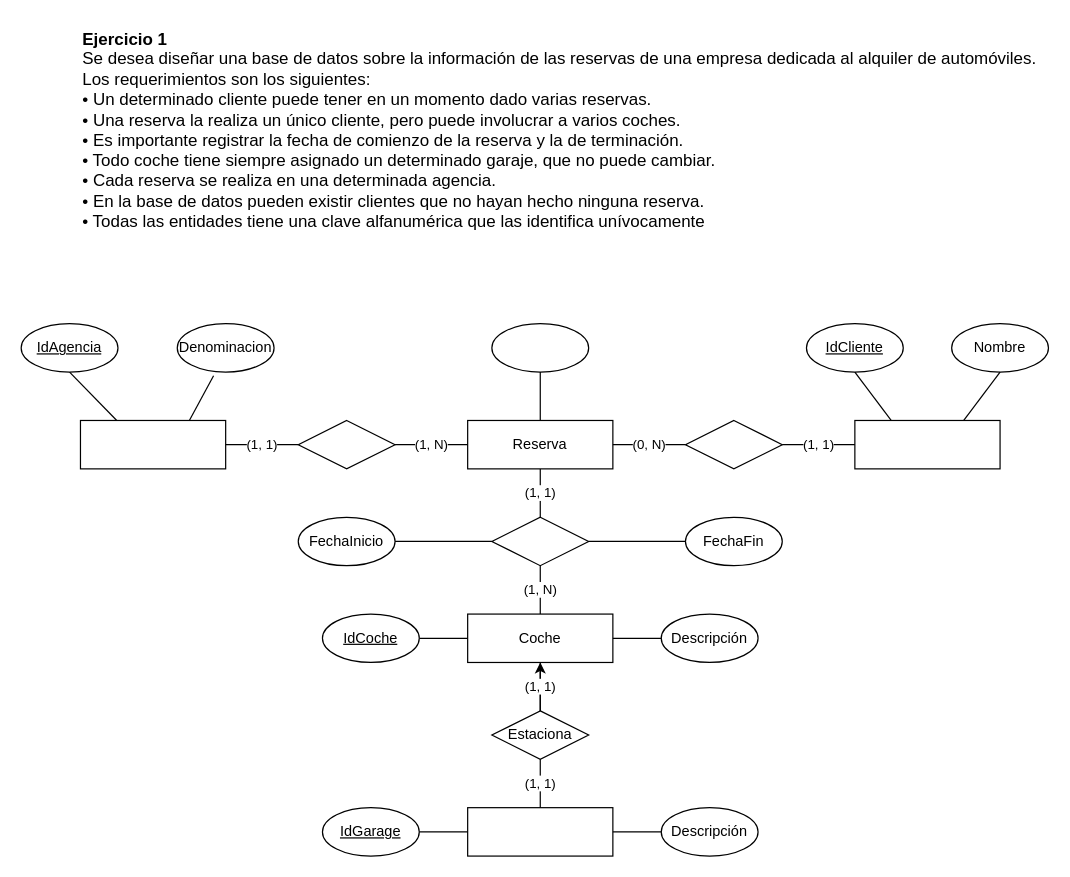
Some shapes in this 1070 by 877 pixel diagram are drawn without their labels. Each missing label, with the centre of its shape:
Agencía: point 152,444
asigna: point 540,541
Cliente: point 927,444
Garage: point 539,831
Genera: point 733,444
IdReserva: point 540,347
se hace en: point 346,444
